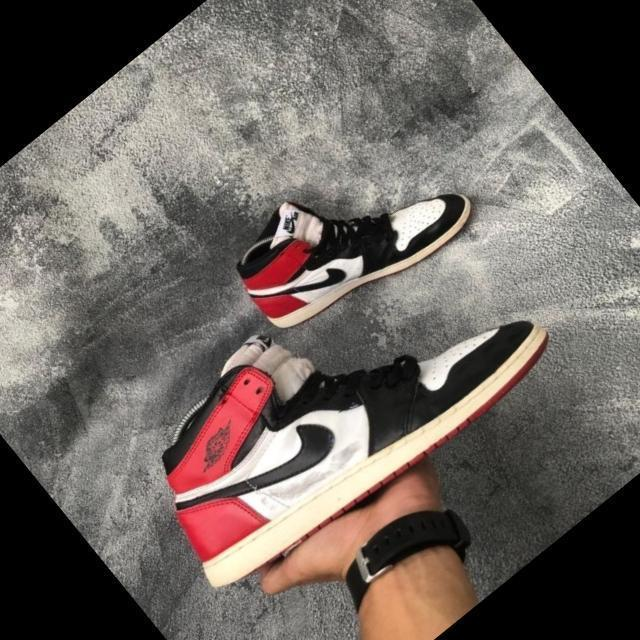nike fake jordan 1: (100, 184, 563, 616), (218, 101, 492, 362)
